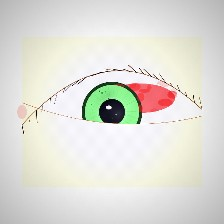hemorrhage_spot: (90, 59, 189, 137)
